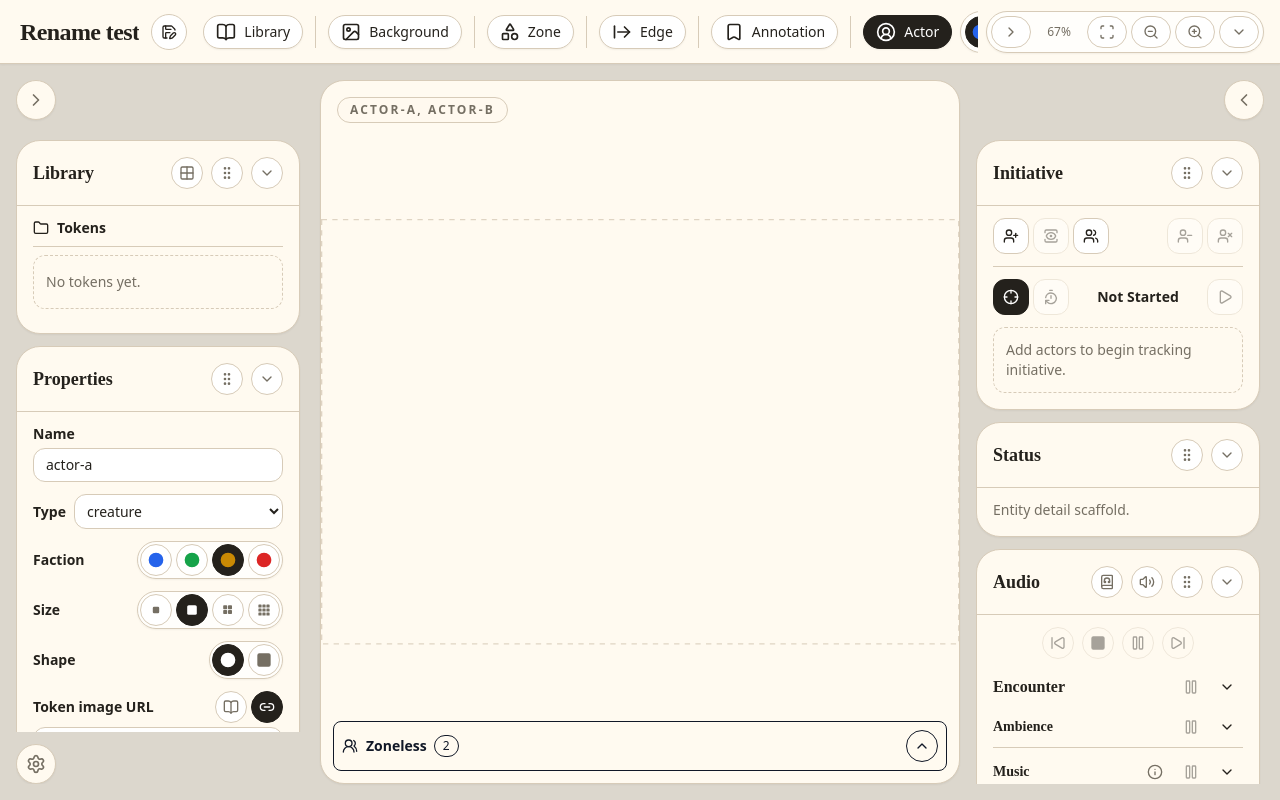
Test case: App › renames every selected actor with Enter and records one history change
Press r
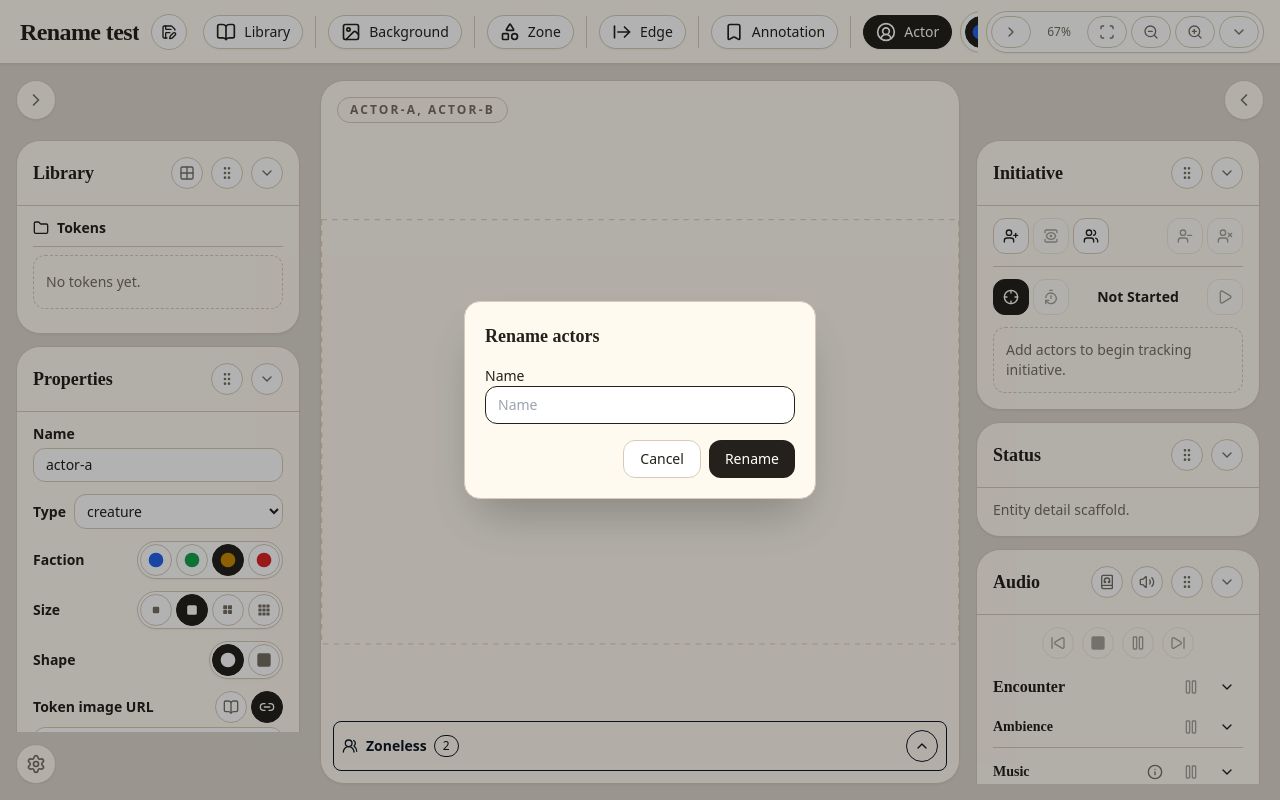
Type "Guard" into the field named "New actor name" at (640,405), box [485,386,795,424]
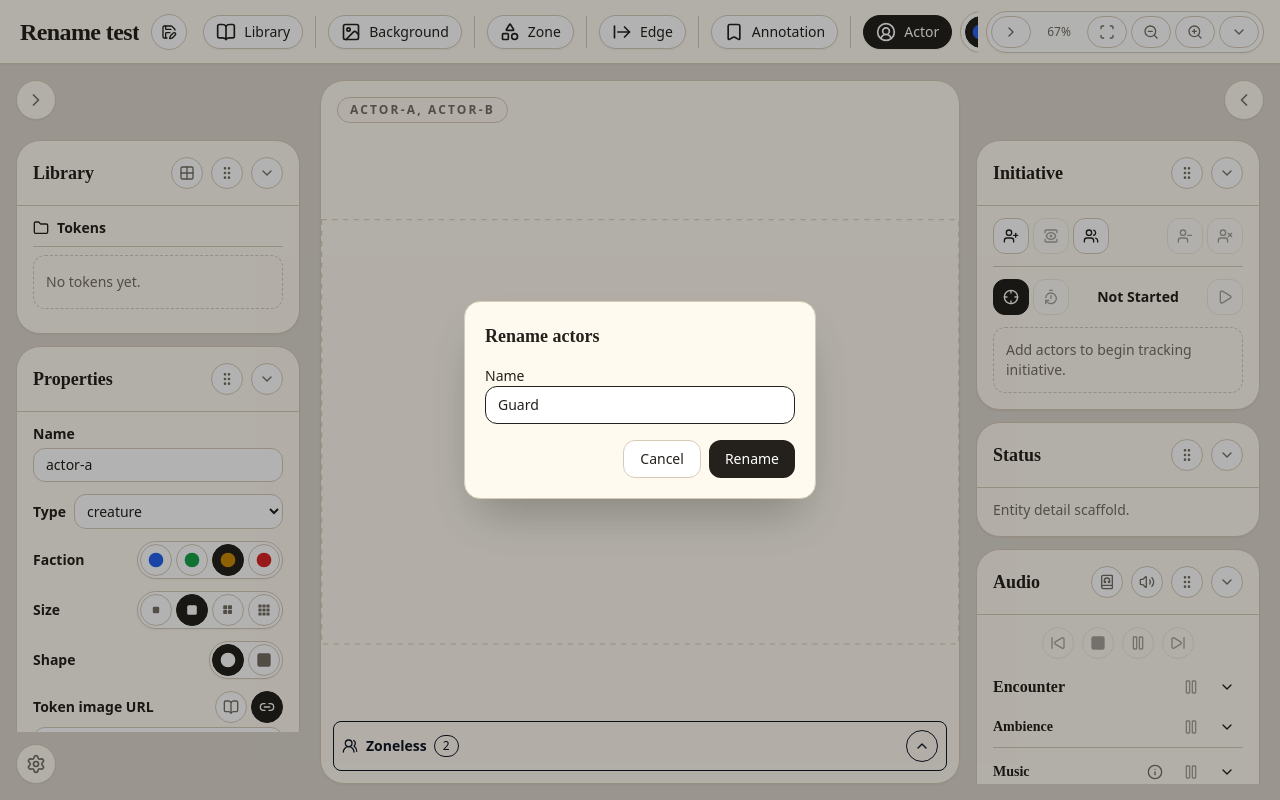
Press Enter in the field named "New actor name", box [485,386,795,424]
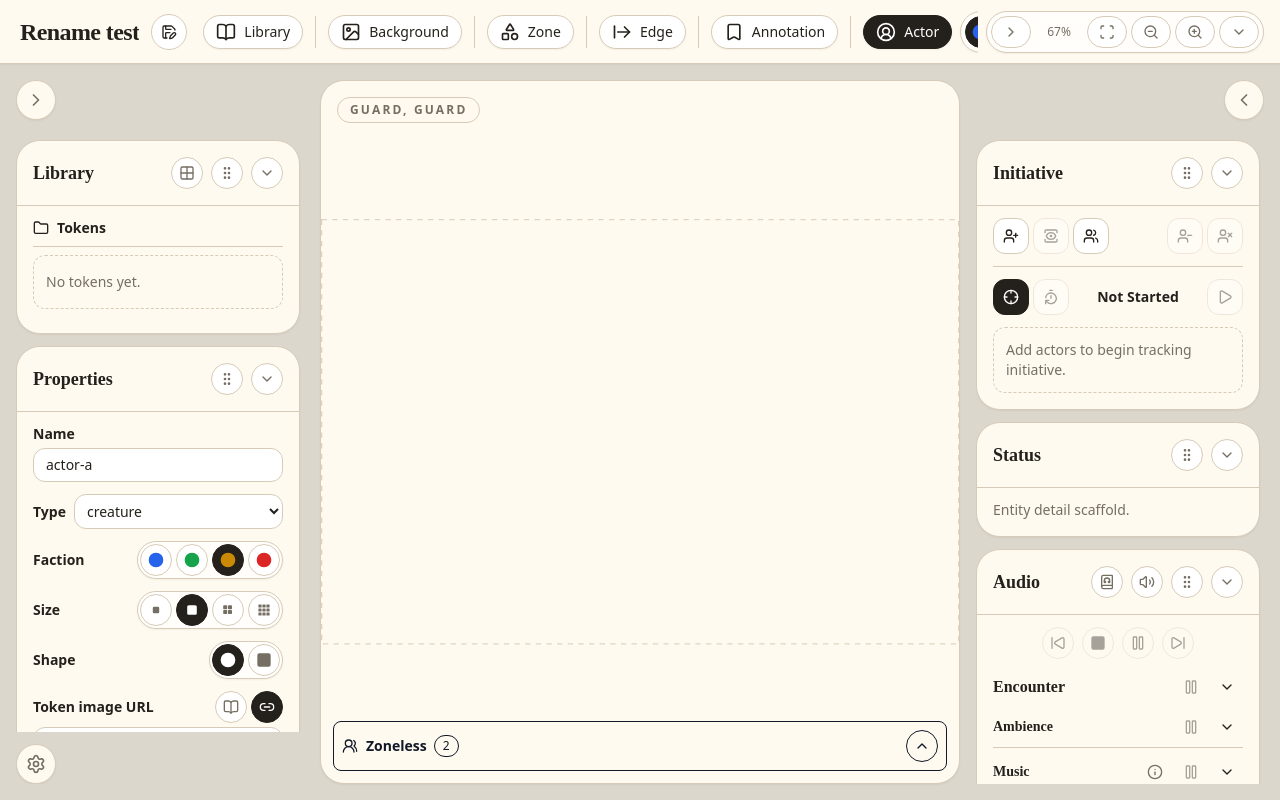
Result: the heading "Rename actors" is gone
